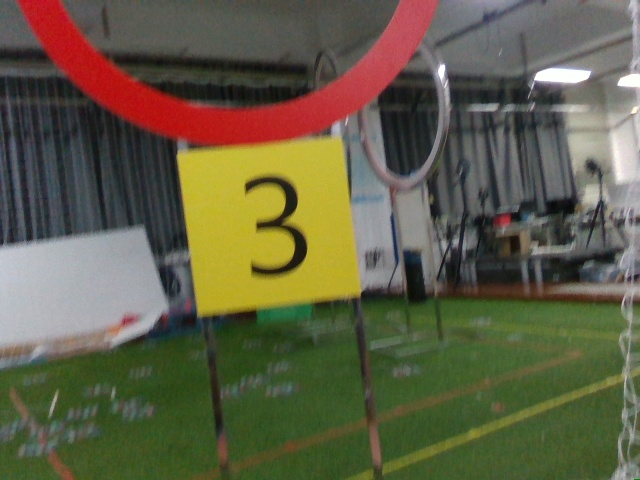target: (197, 154, 347, 299)
